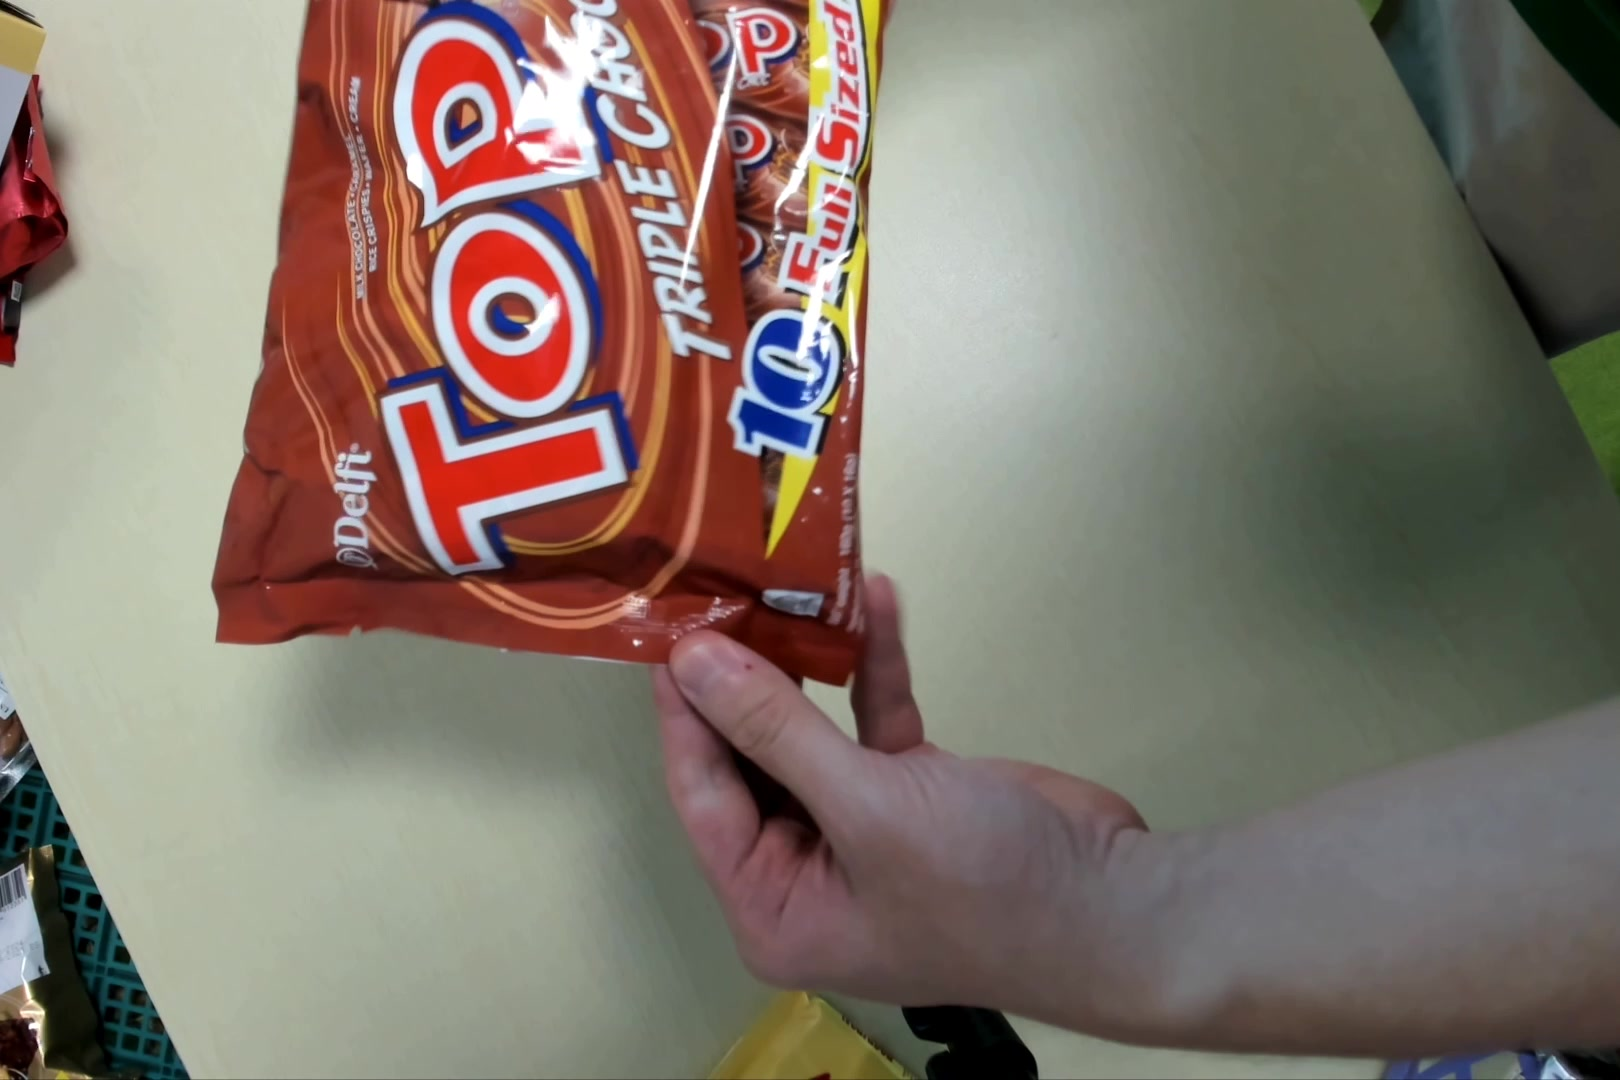SweetsChocolatesOthers_100-199g_NonHalal_NonHealthy: (217, 1, 891, 677)
